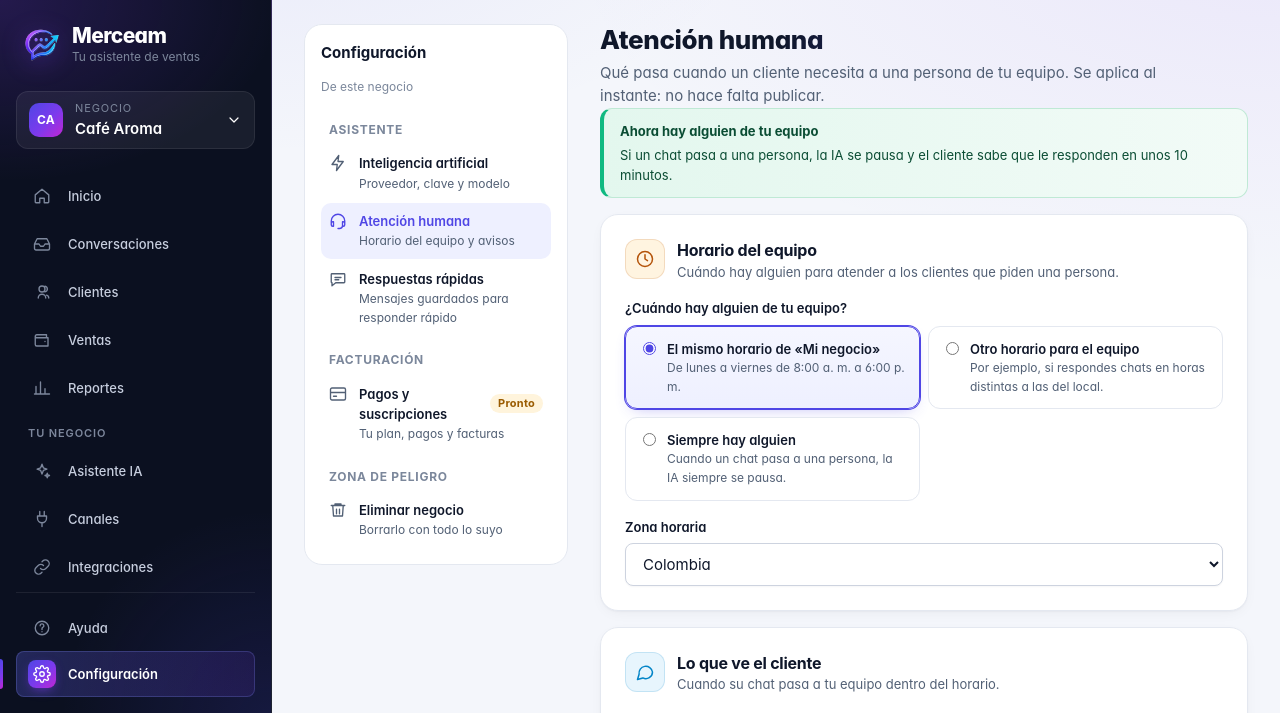
Test: Configuración → Atención humana › guarda un horario propio del equipo con sus días y horas
This screenshot has width=1280, height=713.
Check: the heading "Atención humana" is shown, box [600,24,1206,55]
Click the radio button labelled "Otro horario para el equipo": (952, 348) [946,342,959,355]
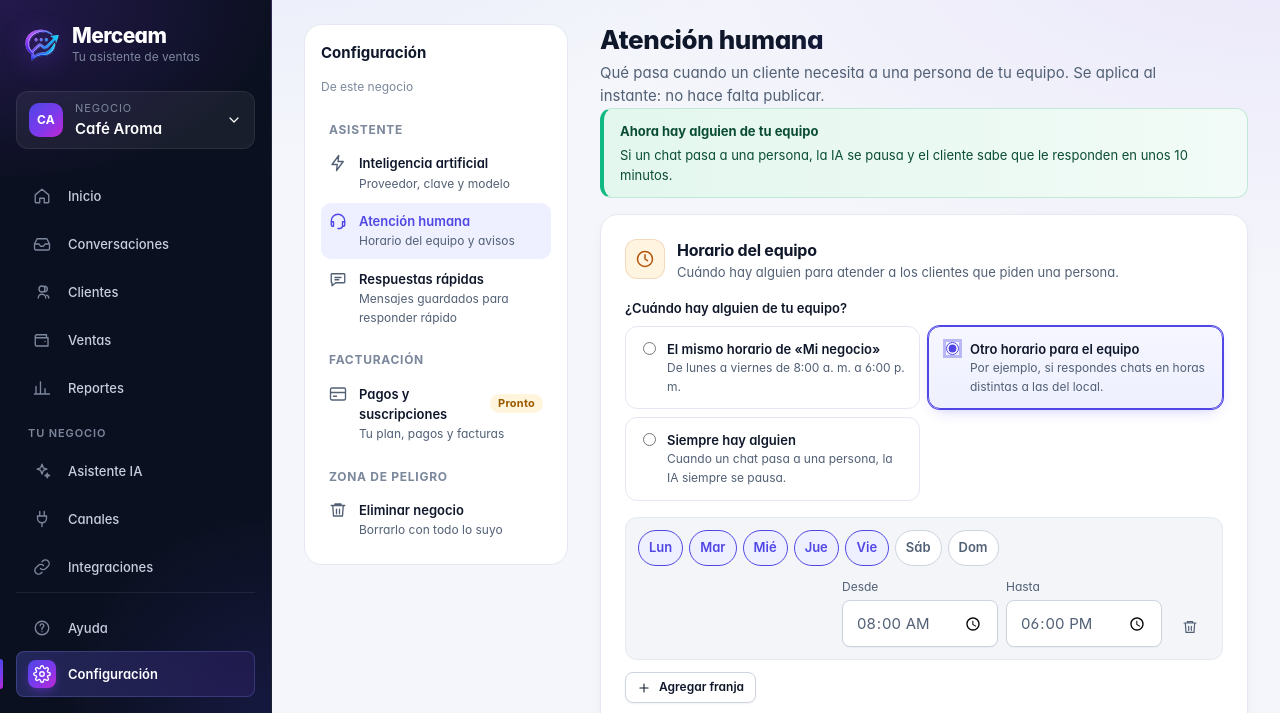
Click the button with aria-label "Viernes": (867, 548) [845,530,889,566]
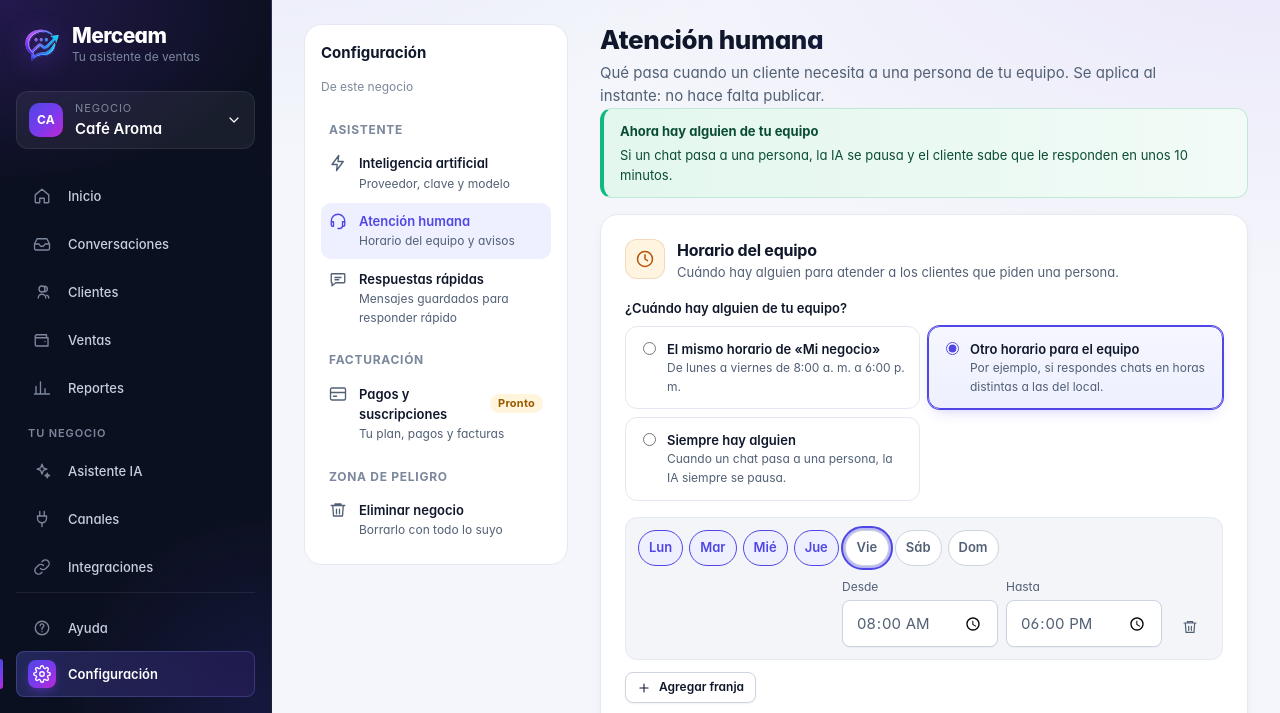
Click the button with aria-label "Sábado": (918, 548) [895,530,942,566]
(page scrolled)
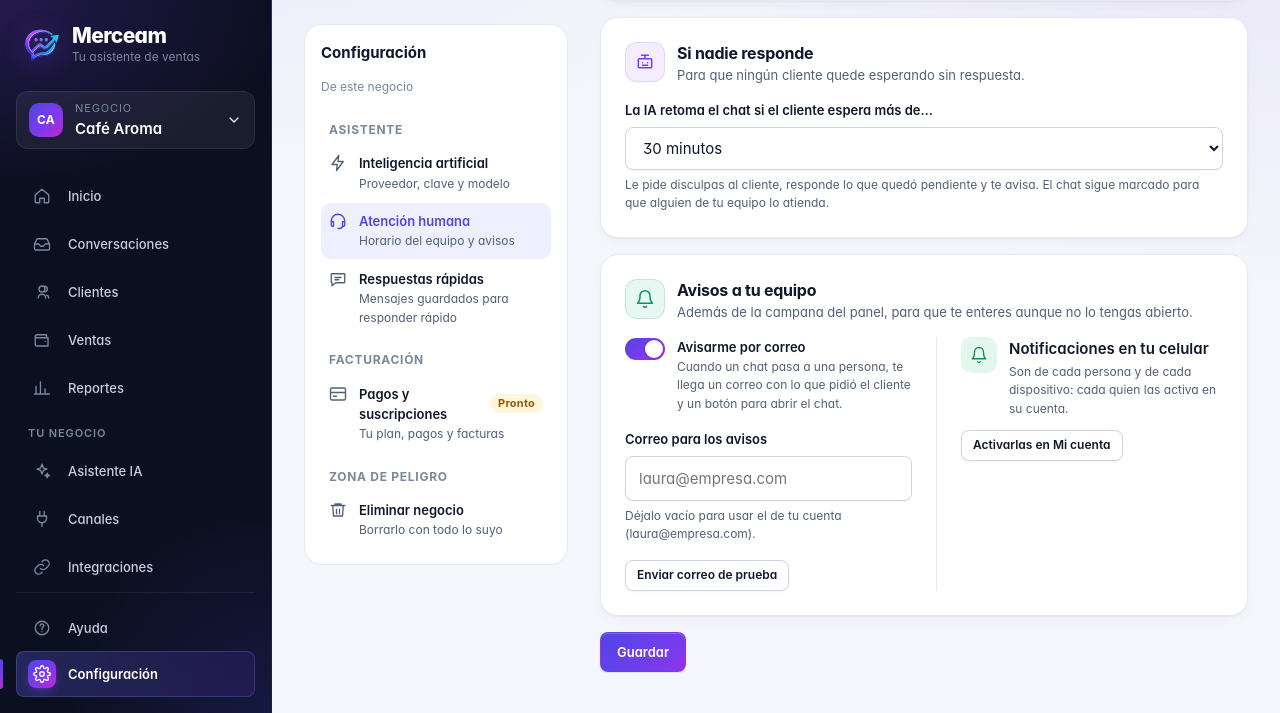
Click the button "Guardar": (643, 652) [600,632,686,672]
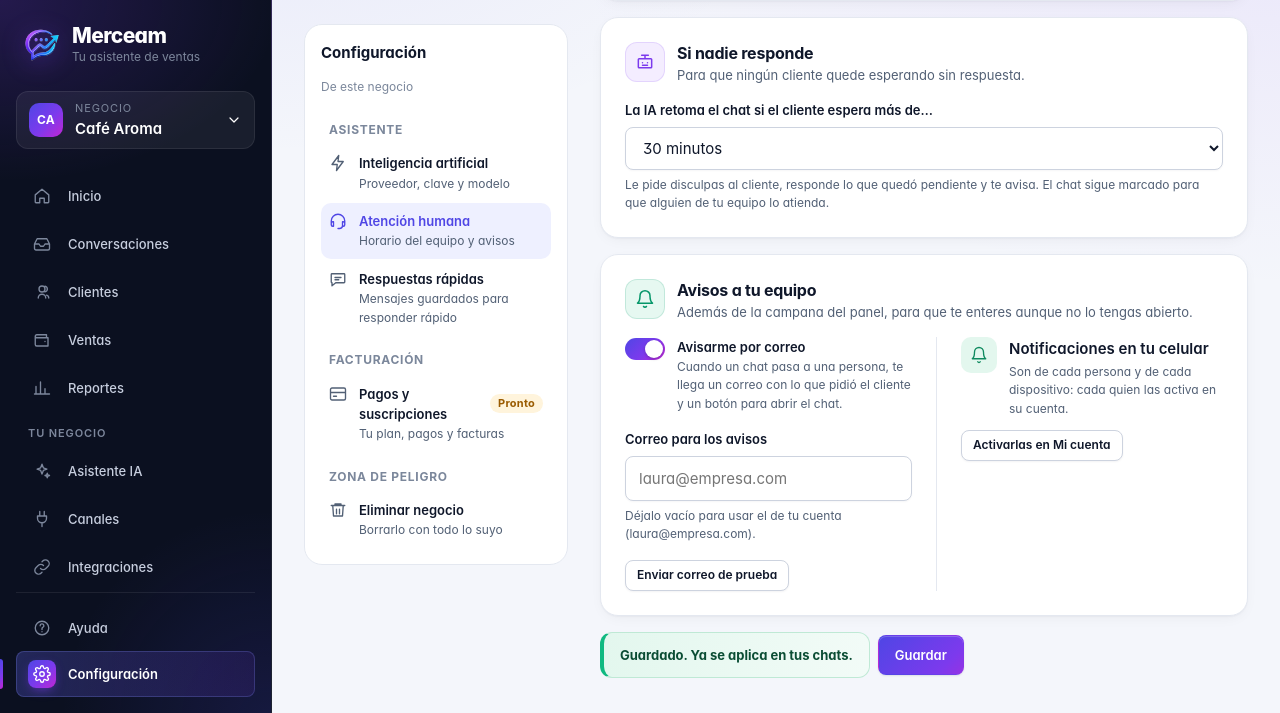
Check: the text "Guardado. Ya se aplica en tus chats." is shown, box [620,644,853,665]
